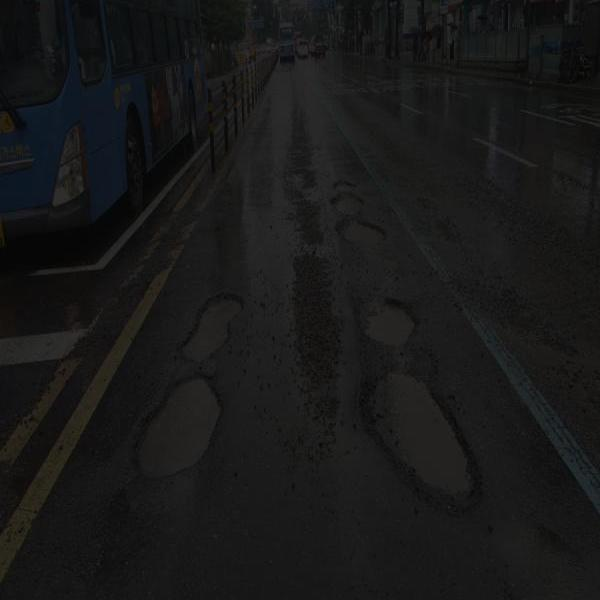pothole: (350, 362, 500, 538), (108, 364, 250, 498), (169, 271, 256, 367), (323, 163, 394, 258), (352, 289, 433, 362)
